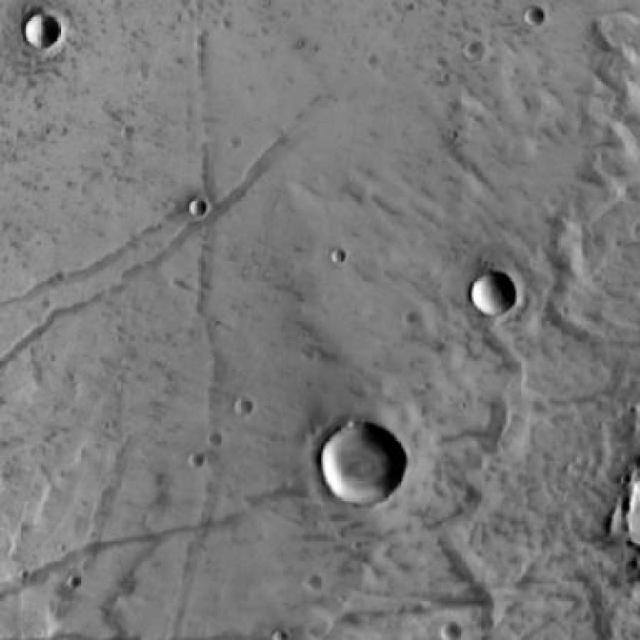crater: (322, 423, 406, 505), (472, 273, 514, 316), (26, 14, 56, 46), (440, 620, 460, 640), (463, 39, 483, 58), (236, 398, 253, 416), (193, 200, 210, 217), (525, 8, 543, 24), (330, 251, 347, 267), (306, 577, 322, 592)
